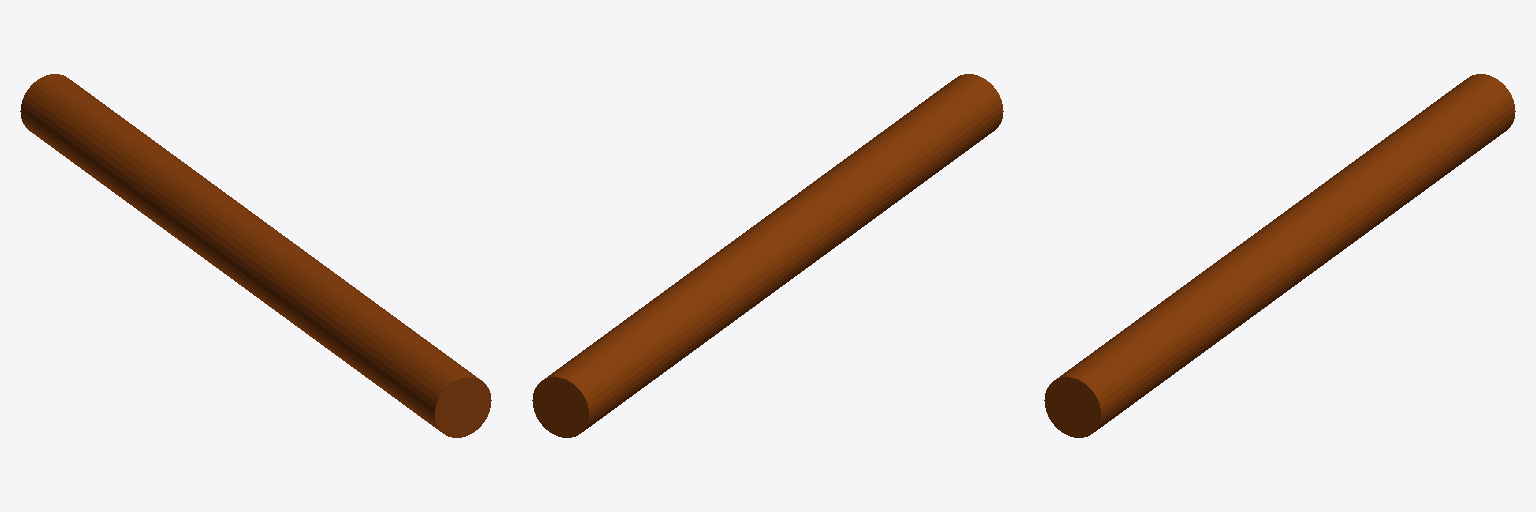
robot.urdf — cylinder:
<?xml version="1.0" ?>
<!-- =================================================================================== -->
<!-- |    This document was autogenerated by xacro from cylinder.xacro                 | -->
<!-- |    EDITING THIS FILE BY HAND IS NOT RECOMMENDED                                 | -->
<!-- =================================================================================== -->
<robot name="cylinder">
  <link name="world"/>
  <link name="base">
    <visual>
      <origin rpy="1.57079633 0 0" xyz="0 0 0"/>
      <geometry>
        <cylinder length="7.07106781185" radius="0.28"/>
      </geometry>
      <material name="cylinder_material">
        <color rgba="0.545 0.271 0.075 1.0"/>
        <texture filename="../textures/tree_bark.jpg"/>
      </material>
    </visual>
    <collision>
      <origin rpy="1.57079633 0 0" xyz="0 0 0"/>
      <geometry>
        <cylinder length="7.07106781185" radius="0.28"/>
      </geometry>
    </collision>
    <inertial>
      <origin rpy="0 0 0" xyz="0 0 0"/>
      <mass value="1"/>
      <inertia ixx="4.186266666648429" ixy="0.0" ixz="0.0" iyy="4.186266666648429" iyz="0.0" izz="24.999999999890573"/>
    </inertial>
  </link>
  <joint name="base_joint" type="fixed">
    <parent link="world"/>
    <child link="base"/>
    <origin rpy="0 0 0" xyz="0.0 0.0 0.0"/>
  </joint>
</robot>

--- What the picture shows (computed from the rendered views, not written in the file) ---
Views: 3 orthographic renders of the robot side by side, from view 1: azimuth 30°, elevation 25°; view 2: azimuth 150°, elevation 25°; view 3: azimuth 330°, elevation 25°.
Model cylinder with 2 links and 1 joints (1 fixed), rooted at world, posed every joint at zero.
Visible links, largest first — view 1: base; view 2: base; view 3: base.
Boxes of the visible links, bbox=[...] form: base: bbox=[20, 74, 491, 437]; base: bbox=[532, 74, 1003, 437]; base: bbox=[1044, 74, 1515, 437].
Size in the robot's own frame: 0.56 by 7.07 by 0.56 metres.
Geometry: primitives only (box / cylinder / sphere), no mesh files.
